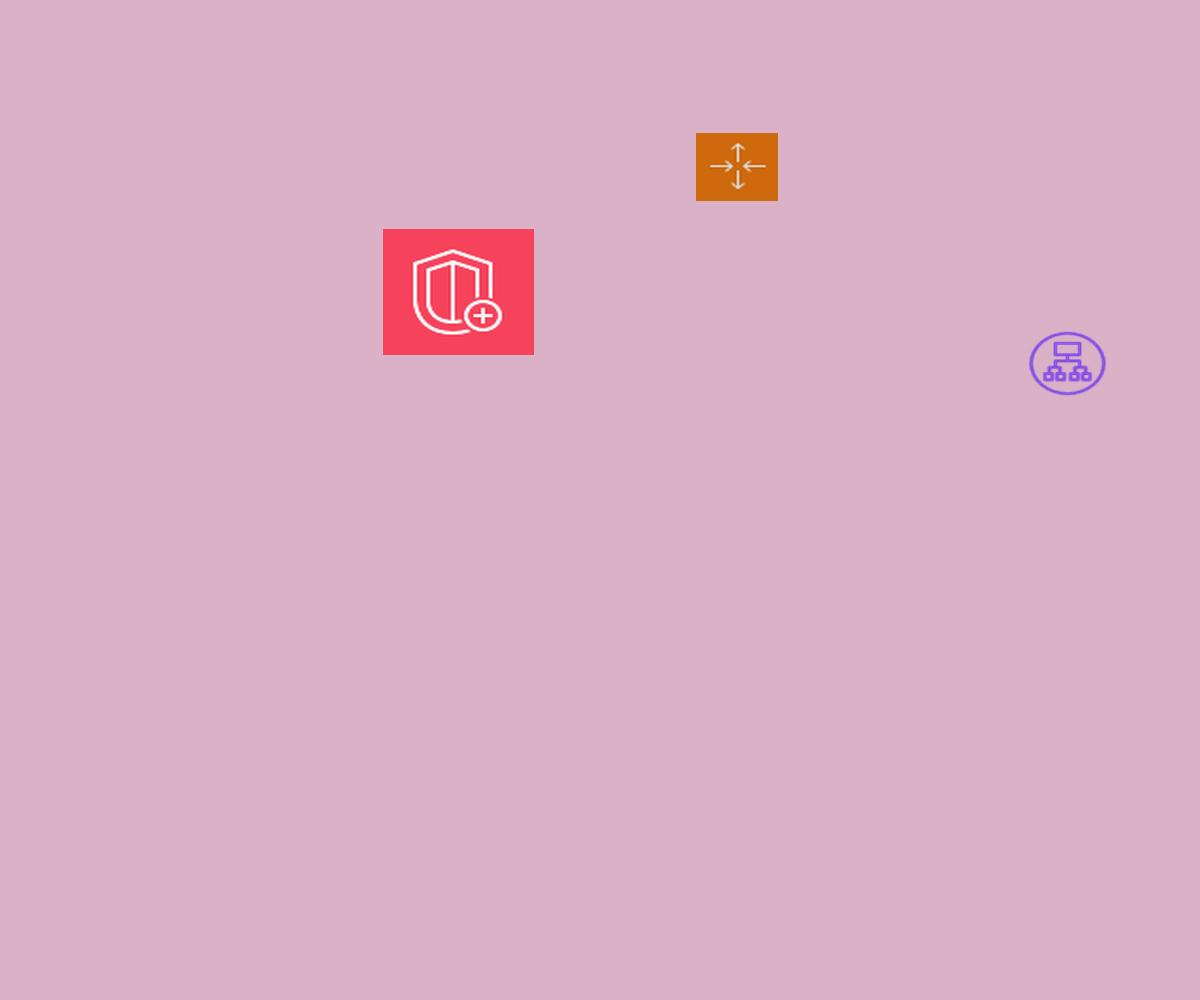AWS-Res_Elastic-Load-Balancing_Application-Load-Balancer: (1026, 329, 1109, 398)
AWS-Scaling-group: (696, 133, 778, 201)
AWS-Shield: (383, 229, 534, 355)
